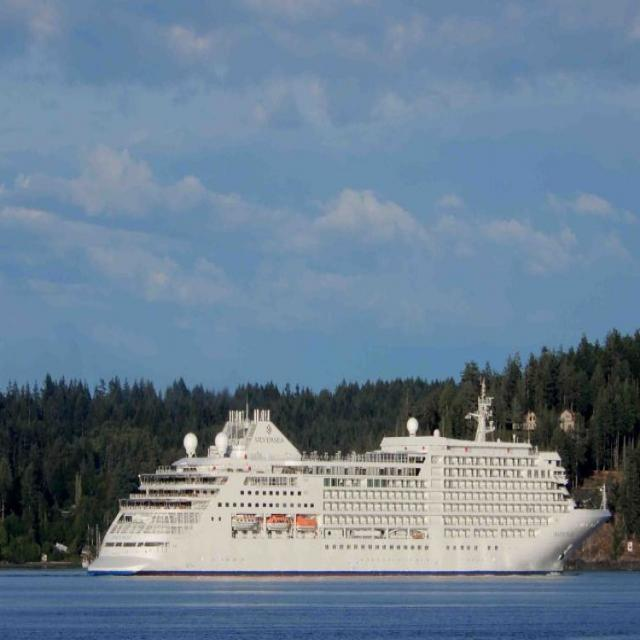cruises: (84, 392, 615, 588)
